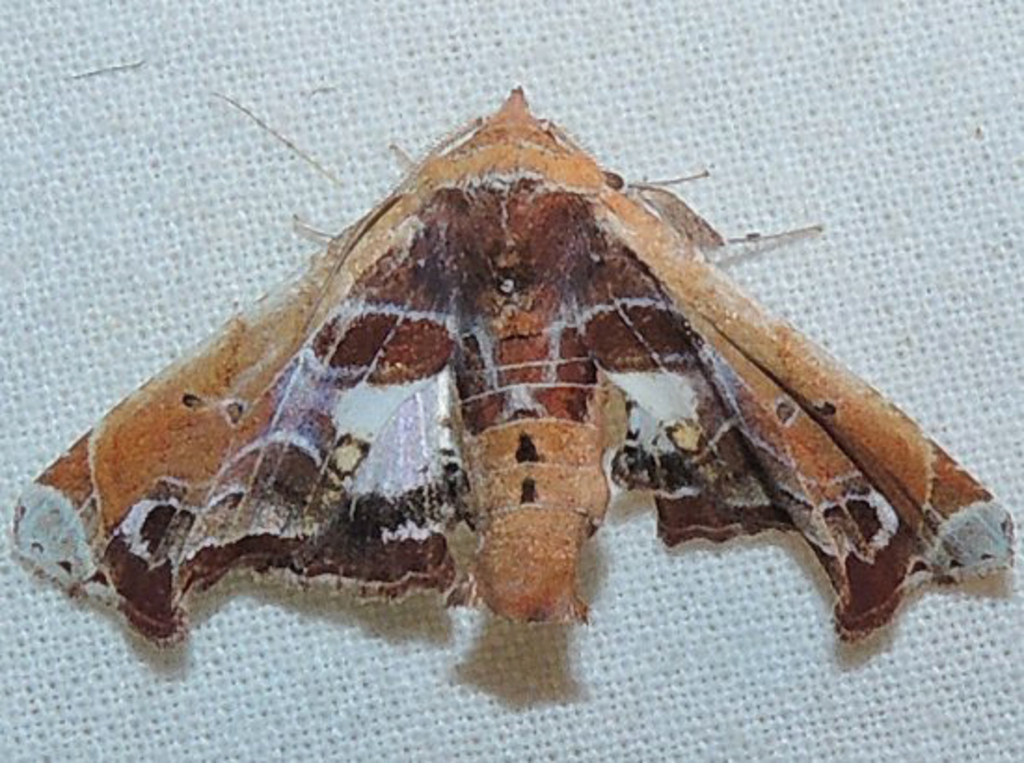Butterfly: (7, 72, 1024, 663)
